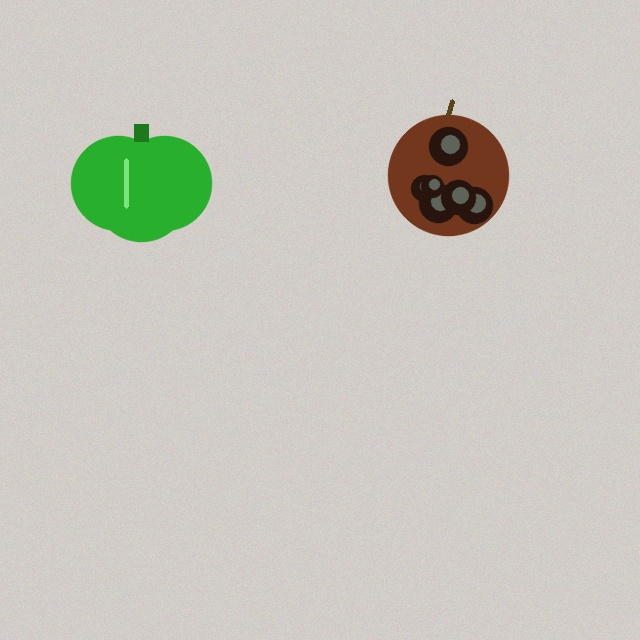Fresh bell pepper: (71, 124, 211, 241)
Rotten apple: (388, 101, 508, 235)
